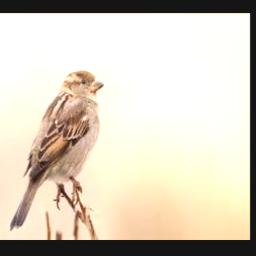Sparrow: (10, 71, 105, 230)
